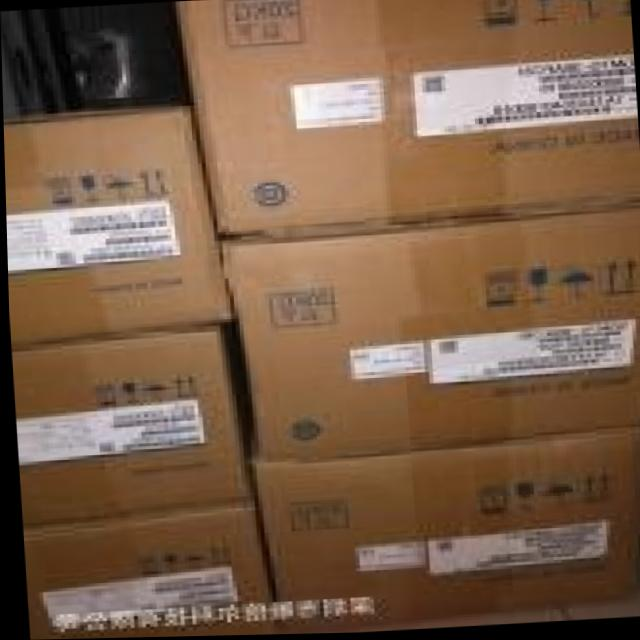box: (179, 0, 640, 242), (223, 211, 640, 461), (255, 433, 640, 633), (3, 107, 232, 351), (13, 332, 251, 531), (25, 500, 278, 640)
